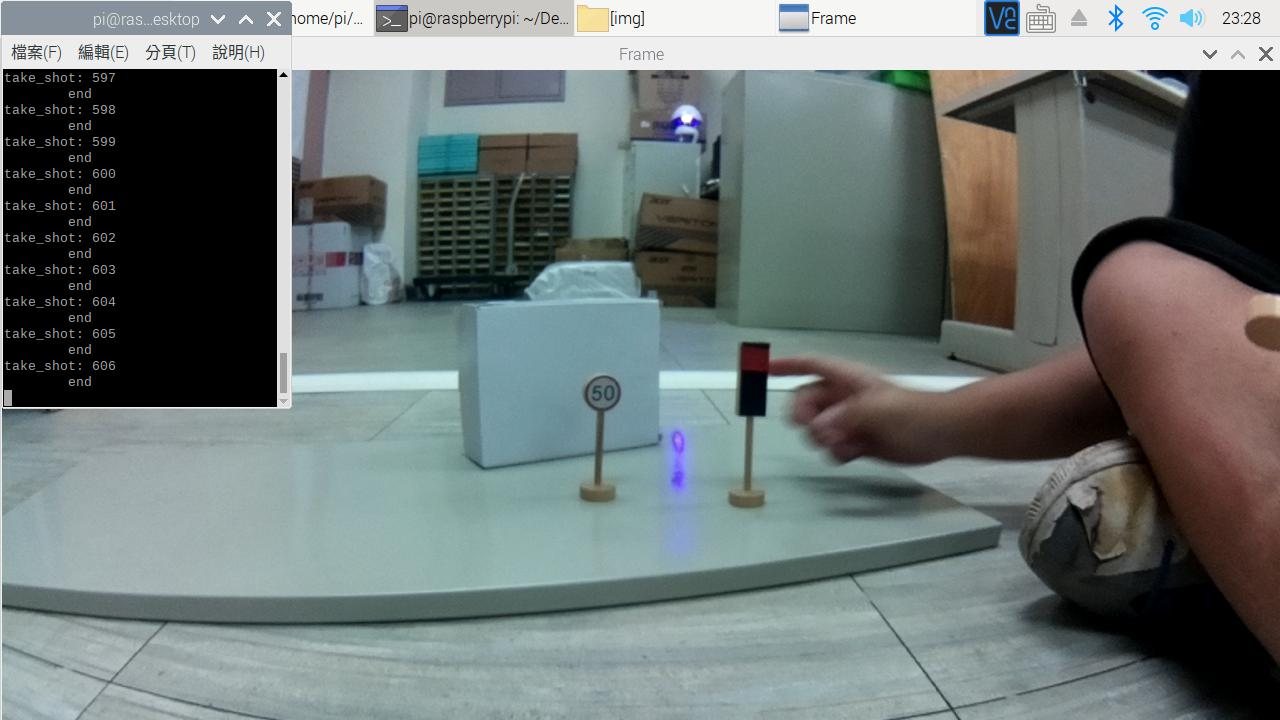Red: (714, 325, 774, 430)
Speed50: (578, 360, 625, 414)
